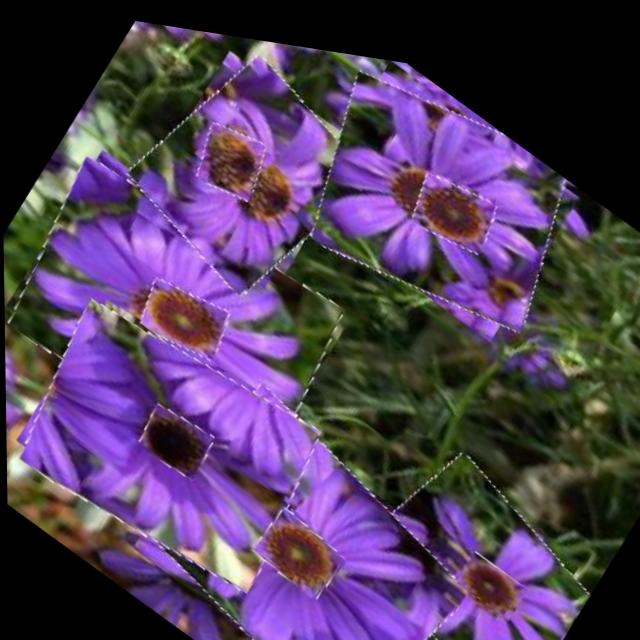Flower: (1, 126, 355, 499), (4, 268, 334, 614), (115, 355, 480, 640), (283, 35, 593, 356), (120, 19, 378, 318), (338, 416, 605, 640), (132, 260, 234, 367), (404, 147, 502, 251), (249, 494, 347, 596), (187, 104, 275, 204), (133, 392, 217, 481), (453, 533, 528, 610)
